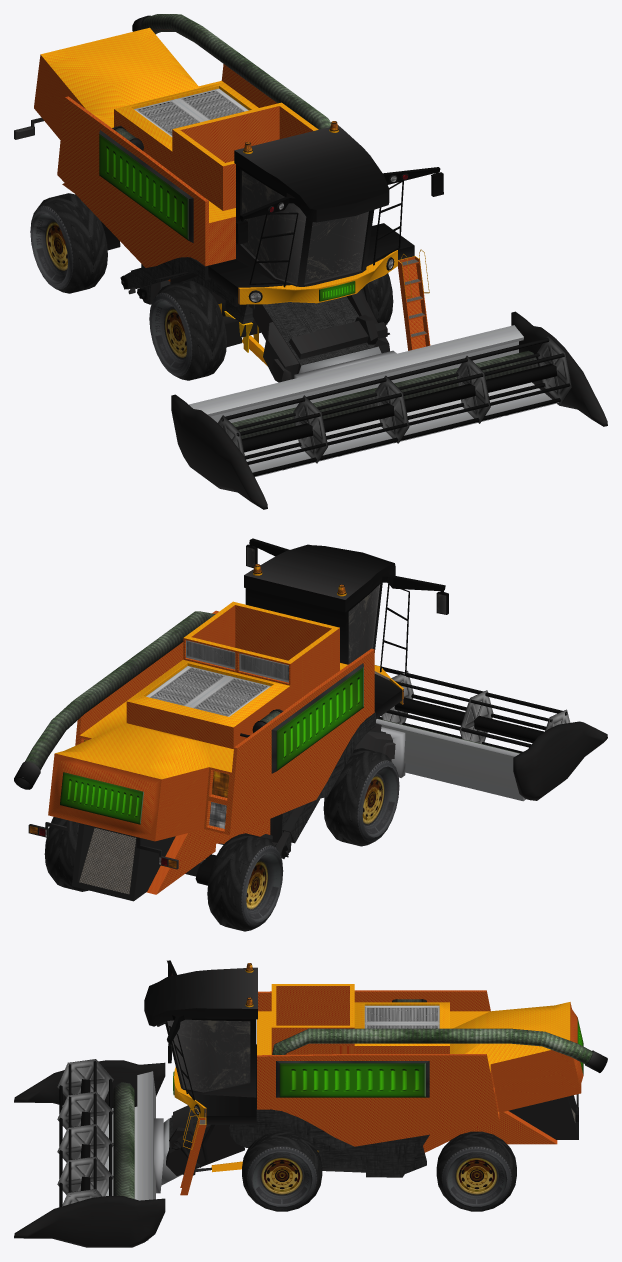
File: crop_harvester.glb
3 renders of one model, top to bottom at view 1: azimuth 30°, elevation 25°; view 2: azimuth 150°, elevation 25°; view 3: azimuth 270°, elevation 25°, orthographic. The views are drawn at different scales.
Visible parts, largest first — view 1: Crop Harvestor_Body_0, Harvesting Sledge_Harvestor_0, Harvesting Blades_Body_0, Harvesting Sledge_Body_0, FR Wheel_Wheel_0, RR Wheel_Wheel_0, Harvesting Blades_Body Transparent_0, FL Wheel_Wheel_0; view 2: Crop Harvestor_Body_0, Harvesting Sledge_Harvestor_0, RR Wheel_Wheel_0, FR Wheel_Wheel_0, Harvesting Blades_Body_0, Harvesting Sledge_Body_0, RL Wheel_Wheel_0, Harvesting Blades_Body Transparent_0; view 3: Crop Harvestor_Body_0, Harvesting Sledge_Body_0, Harvesting Blades_Body Transparent_0, RL Wheel_Wheel_0, FL Wheel_Wheel_0, Harvesting Sledge_Harvestor_0, Harvesting Blades_Body_0.
Part boxes in pixels (box(x1,y1,x2,y2)): Crop Harvestor_Body_0: box(14, 14, 443, 382); Harvesting Sledge_Harvestor_0: box(189, 325, 558, 476); Harvesting Blades_Body_0: box(221, 338, 570, 476); Harvesting Sledge_Body_0: box(171, 311, 607, 509); FR Wheel_Wheel_0: box(149, 280, 226, 380); RR Wheel_Wheel_0: box(30, 193, 107, 293); Harvesting Blades_Body Transparent_0: box(218, 336, 571, 463); FL Wheel_Wheel_0: box(361, 273, 393, 325); Crop Harvestor_Body_0: box(14, 538, 448, 901); Harvesting Sledge_Harvestor_0: box(376, 719, 525, 801); RR Wheel_Wheel_0: box(207, 833, 283, 931); FR Wheel_Wheel_0: box(323, 748, 399, 846); Harvesting Blades_Body_0: box(375, 665, 567, 753); Harvesting Sledge_Body_0: box(377, 718, 607, 800); RL Wheel_Wheel_0: box(44, 817, 88, 891); Harvesting Blades_Body Transparent_0: box(381, 671, 570, 743); Crop Harvestor_Body_0: box(144, 960, 607, 1195); Harvesting Sledge_Body_0: box(14, 1060, 165, 1247); Harvesting Blades_Body Transparent_0: box(57, 1059, 113, 1206); RL Wheel_Wheel_0: box(436, 1131, 516, 1211); FL Wheel_Wheel_0: box(242, 1131, 322, 1211); Harvesting Sledge_Harvestor_0: box(104, 1071, 181, 1240); Harvesting Blades_Body_0: box(59, 1061, 112, 1207).
Size of the model in its own units: 6.63 by 4.33 by 11.82.
Materials: 4 (4 with a texture image).
